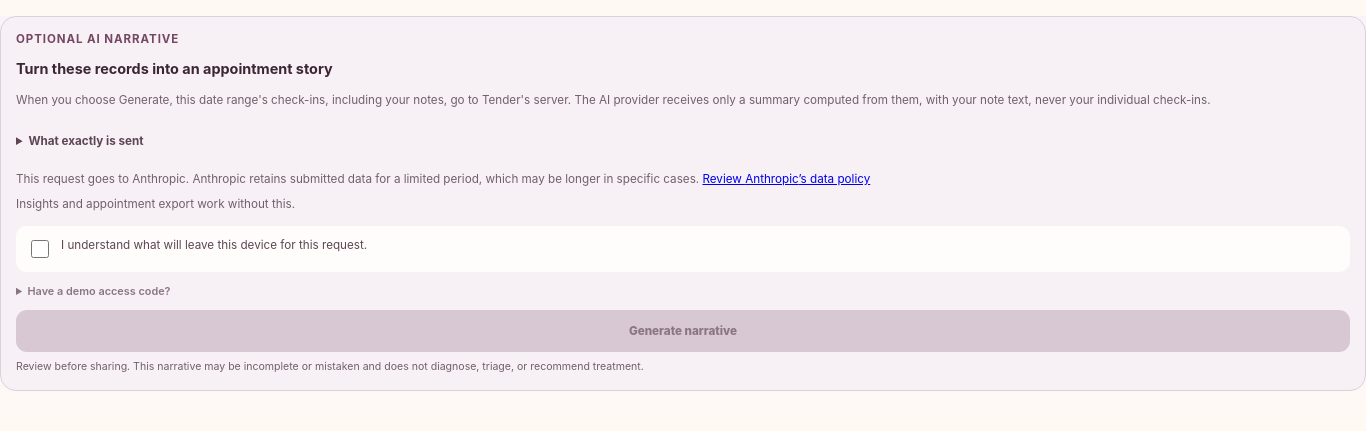
Scenario: AI narrative consent › renders the narrative's bold labels and bullets, never raw markers or links
Click the checkbox.
click(40, 249)  # box left=31, top=240, right=49, bottom=258
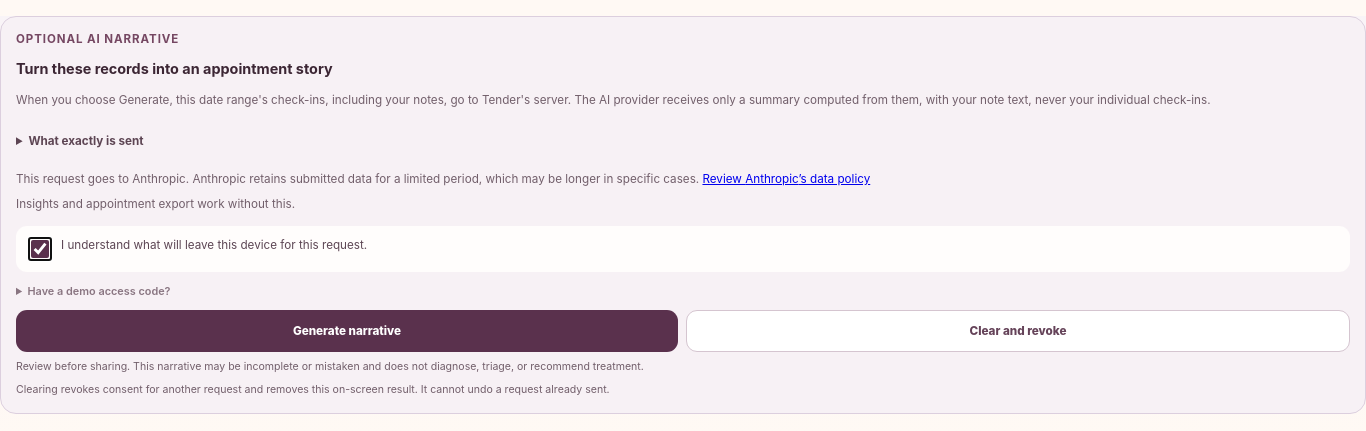
Click the button "Generate narrative".
click(347, 331)  # box left=16, top=310, right=678, bottom=352
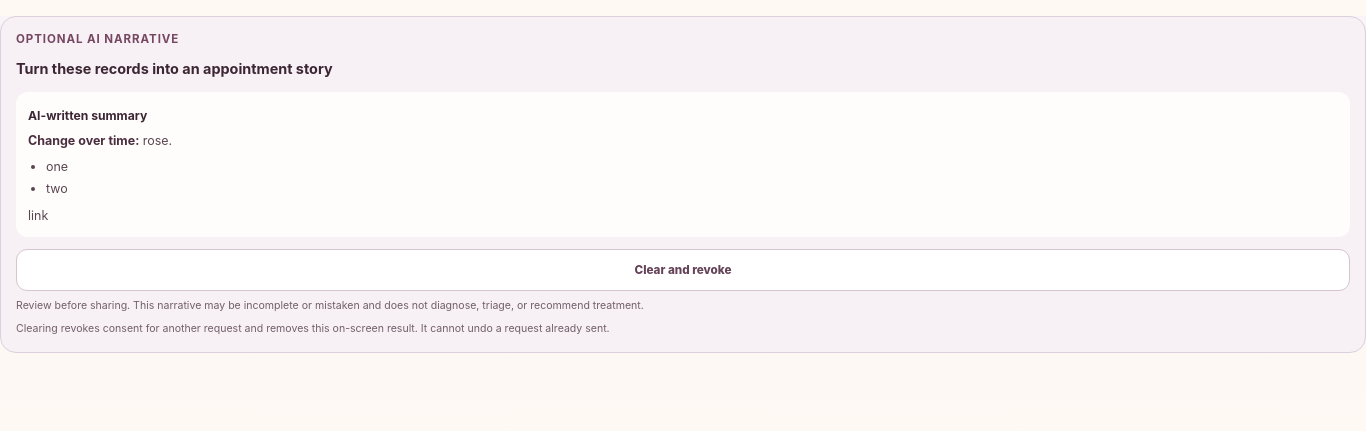
Expected: the text "Change over time:" is shown, left=28, top=133, right=139, bottom=148
Expected: the number of list items is 2, left=46, top=159, right=68, bottom=174; left=46, top=182, right=68, bottom=196
Expected: the link "Review Anthropic’s data policy" is gone
